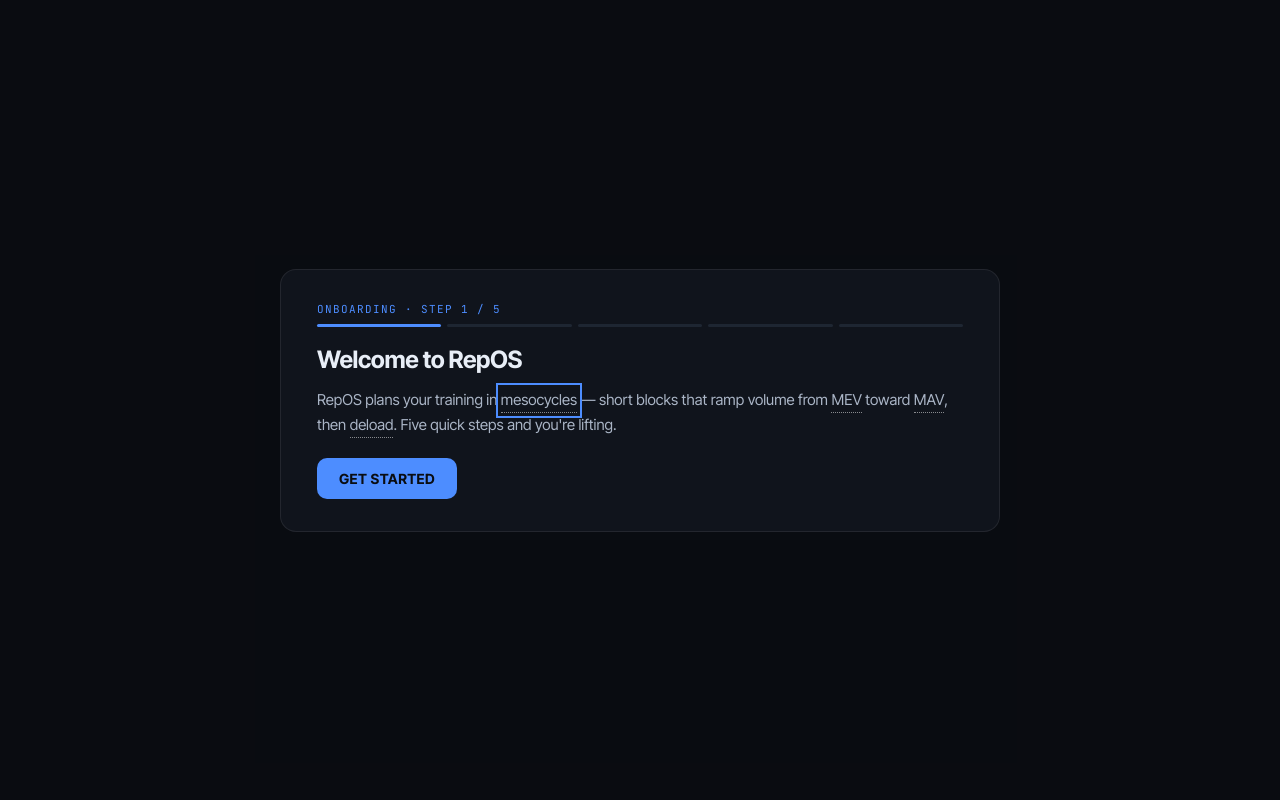
Scenario: <OnboardingOverlay> › steps 2/3/4 expose a Skip control that advances
Click the button "GET STARTED": (387, 478) left=317, top=458, right=457, bottom=498
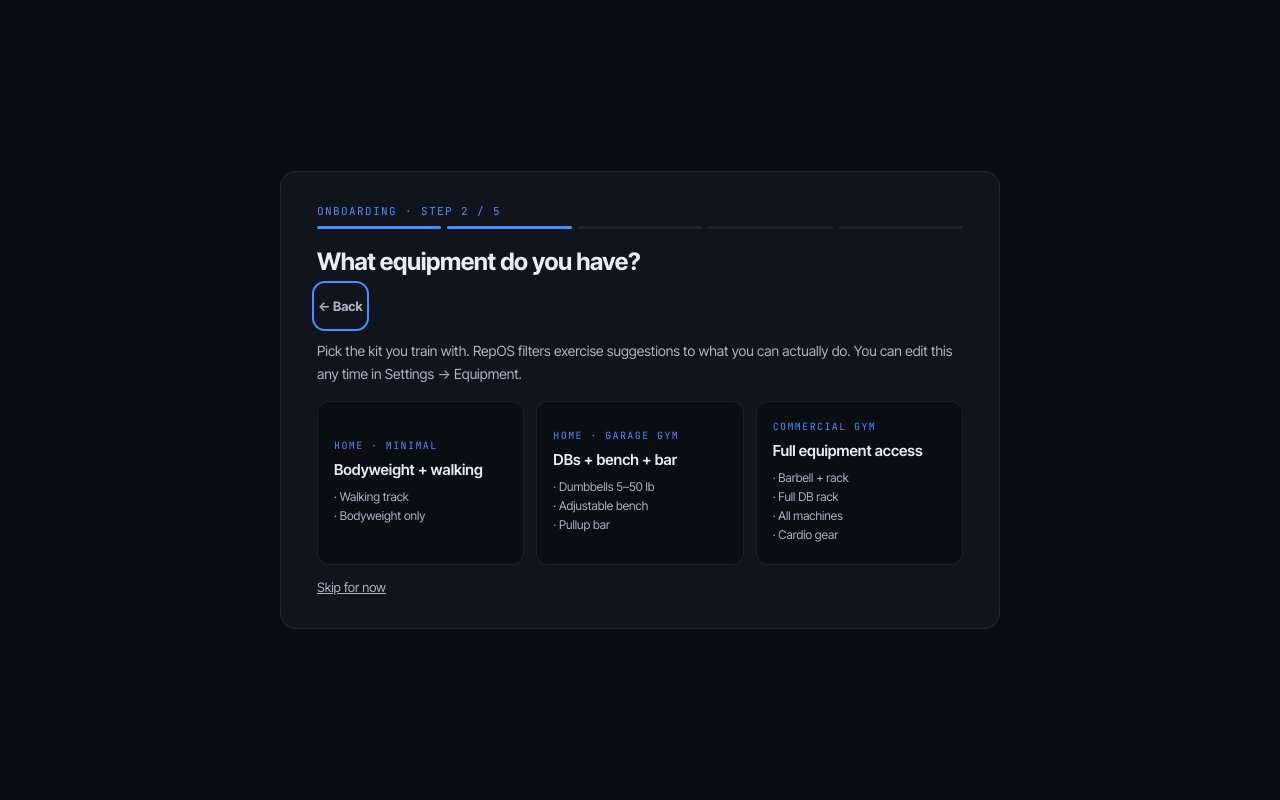
Click the button "Skip for now": (352, 580) left=317, top=565, right=386, bottom=595
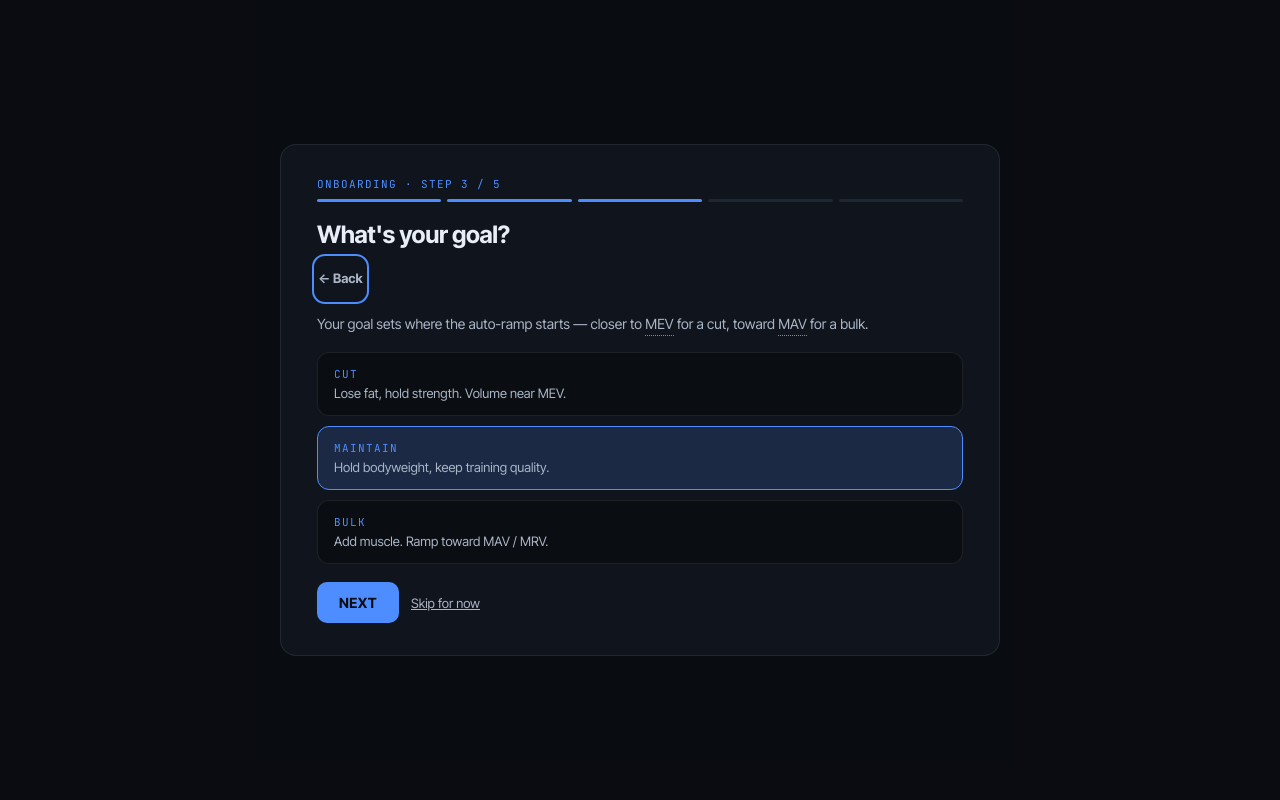
Result: the text "ONBOARDING · STEP 3 / 5" is shown at left=317, top=177, right=501, bottom=191
Click the button "Skip for now": (446, 603) left=411, top=595, right=480, bottom=611
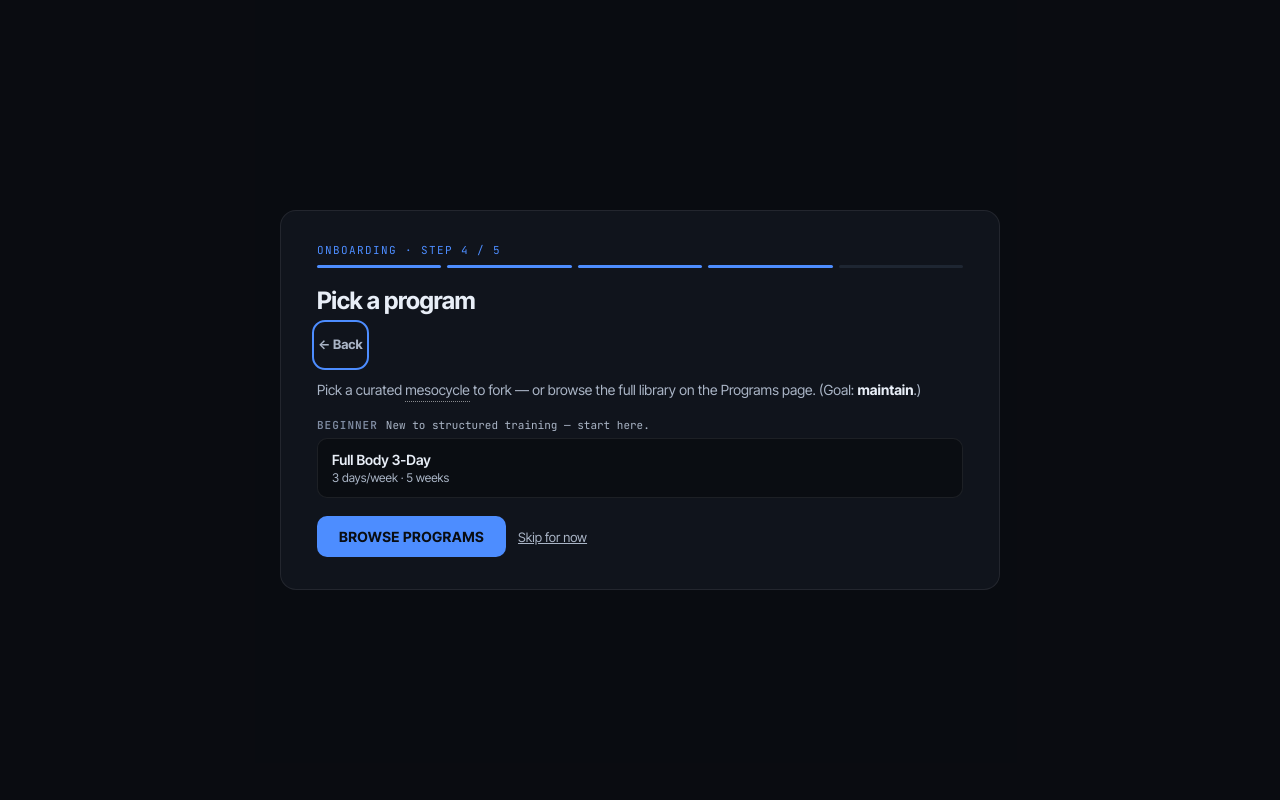
Result: the text "ONBOARDING · STEP 4 / 5" is shown at left=317, top=243, right=501, bottom=257
